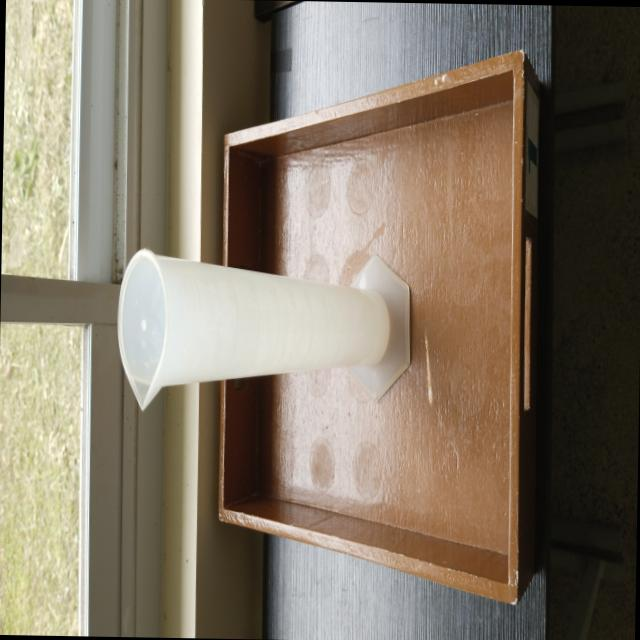graduated_cylinder: (114, 238, 416, 419)
